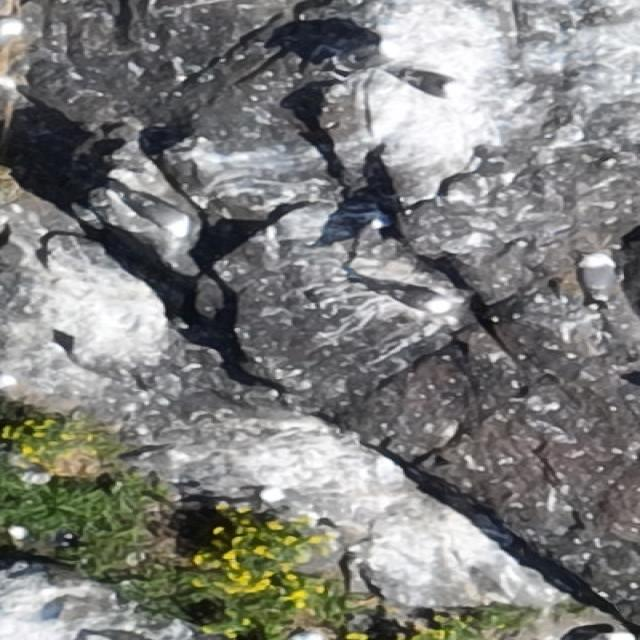umineko: (132, 186, 206, 240), (578, 250, 616, 301), (338, 45, 402, 75), (388, 287, 437, 310), (404, 74, 452, 96), (258, 482, 292, 508), (10, 525, 33, 542)
